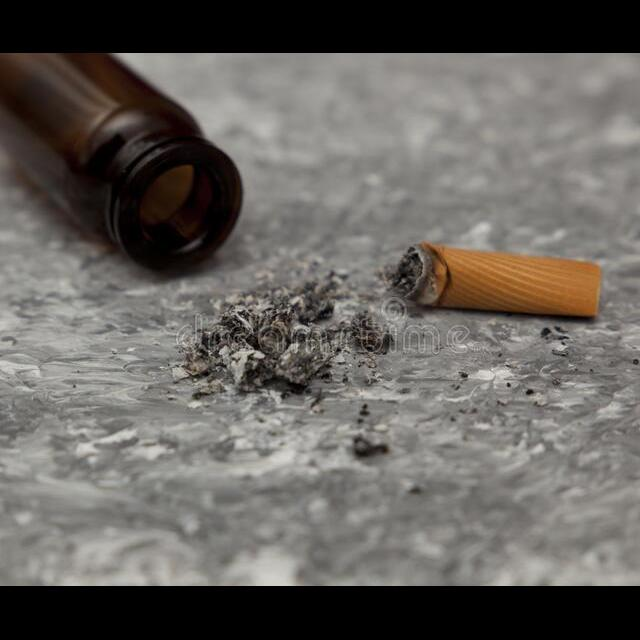Cigarette Butt: (390, 241, 604, 320)
